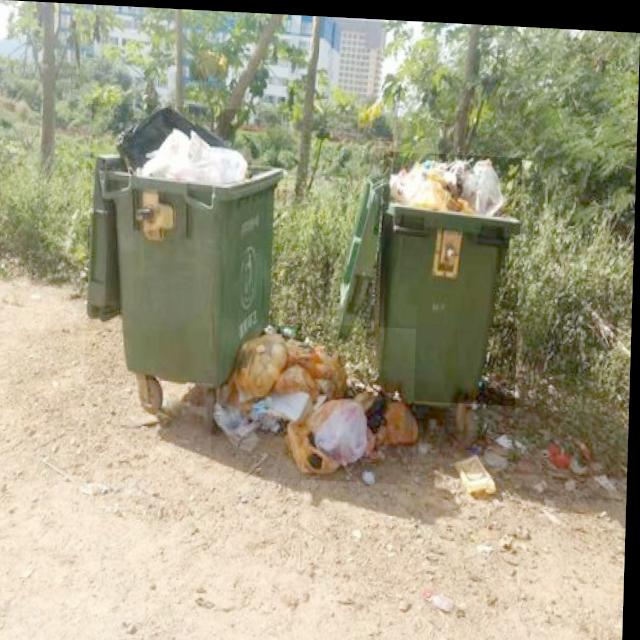garbage: (213, 316, 418, 480), (434, 423, 621, 497)
overflow: (86, 101, 283, 384), (379, 147, 523, 400)
